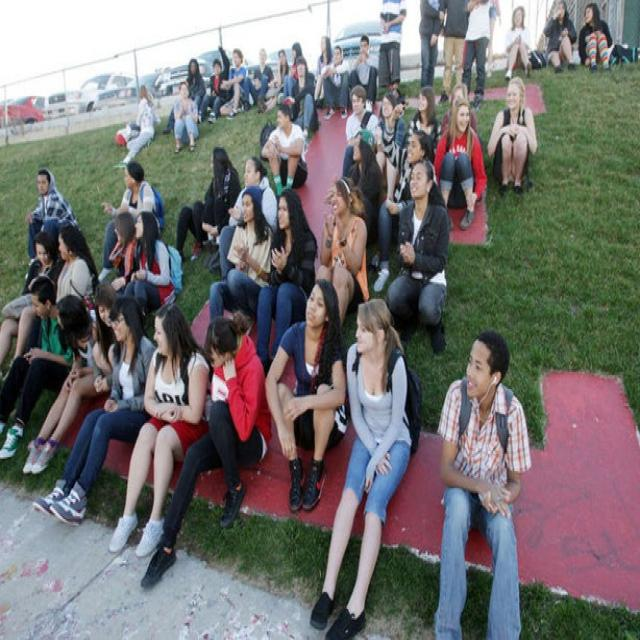body: (344, 127, 640, 640), (136, 307, 273, 593), (308, 294, 414, 640), (431, 326, 534, 638), (29, 293, 164, 527), (107, 299, 213, 561), (262, 274, 352, 516), (20, 293, 110, 479), (0, 272, 74, 464), (250, 184, 322, 380), (386, 158, 450, 358), (372, 103, 438, 294), (206, 183, 276, 328), (0, 229, 61, 384), (96, 158, 167, 284), (313, 175, 371, 327), (428, 95, 489, 232), (217, 154, 280, 284), (119, 208, 185, 327), (485, 71, 540, 197), (23, 166, 82, 266), (260, 100, 310, 204), (370, 88, 411, 211), (202, 146, 243, 256), (53, 222, 101, 305), (436, 0, 473, 107), (342, 84, 383, 180), (112, 84, 156, 172), (162, 56, 208, 135), (461, 0, 492, 110), (281, 54, 320, 141), (575, 0, 619, 74), (106, 209, 142, 299), (91, 281, 119, 395), (196, 41, 231, 126), (540, 0, 578, 77), (345, 31, 382, 110), (318, 42, 352, 122), (236, 47, 275, 116), (407, 84, 444, 156), (254, 48, 292, 118), (378, 0, 407, 90), (417, 0, 446, 90), (217, 45, 251, 119), (502, 3, 532, 82), (171, 77, 200, 156), (475, 0, 503, 77), (440, 82, 477, 136), (312, 32, 336, 107), (282, 40, 306, 99)
